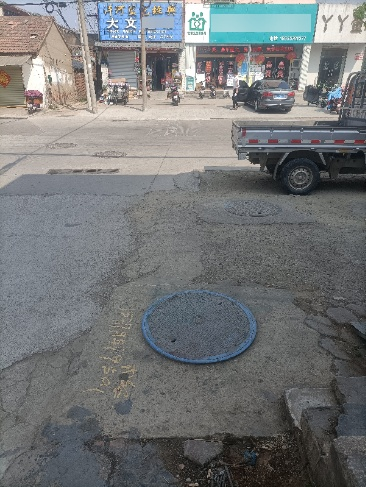good: (142, 289, 258, 363)
